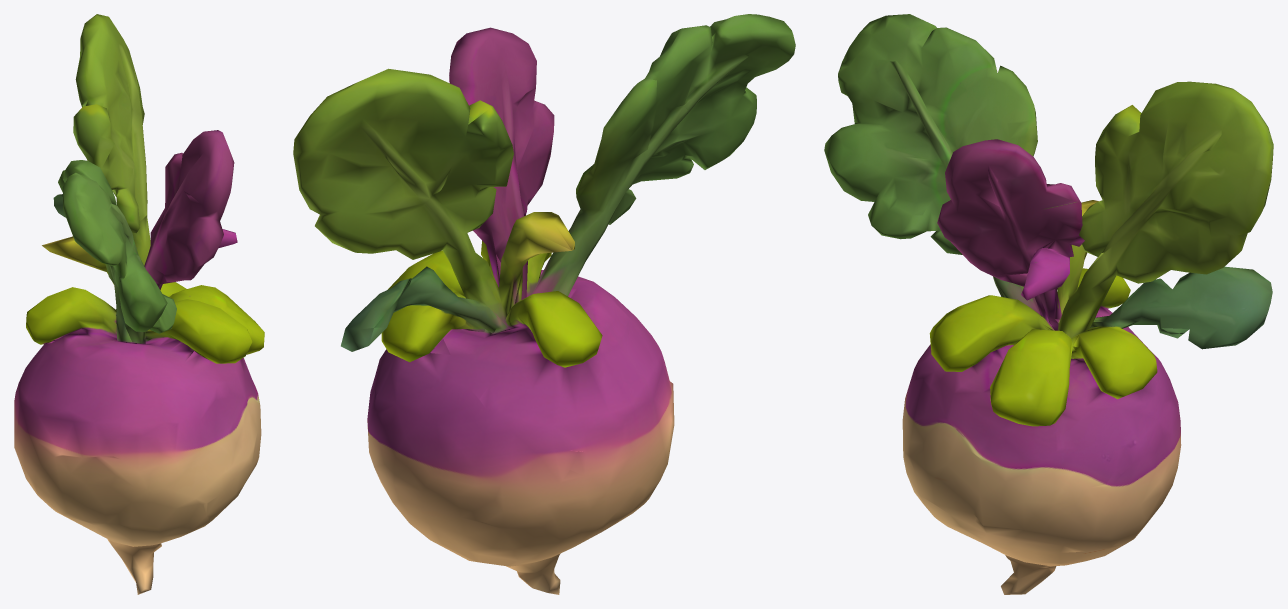
Rendered from salgam.glb.
3 renders of one model, left to right at view 1: azimuth 30°, elevation 25°; view 2: azimuth 150°, elevation 25°; view 3: azimuth 270°, elevation 25°, orthographic. The views are drawn at different scales.
Parts seen in each view (by area): view 1: tripo_node_15b23276-81d0-4cf9-97cf-53aeb12b7c82; view 2: tripo_node_15b23276-81d0-4cf9-97cf-53aeb12b7c82; view 3: tripo_node_15b23276-81d0-4cf9-97cf-53aeb12b7c82.
Boxes of the visible parts, x1=… form: tripo_node_15b23276-81d0-4cf9-97cf-53aeb12b7c82: x1=14, y1=14, x2=264, y2=594; tripo_node_15b23276-81d0-4cf9-97cf-53aeb12b7c82: x1=293, y1=14, x2=795, y2=594; tripo_node_15b23276-81d0-4cf9-97cf-53aeb12b7c82: x1=824, y1=14, x2=1273, y2=594.
Size of the model in its own units: 0.3335 by 0.6 by 0.454.
1 material, 1 textured.
